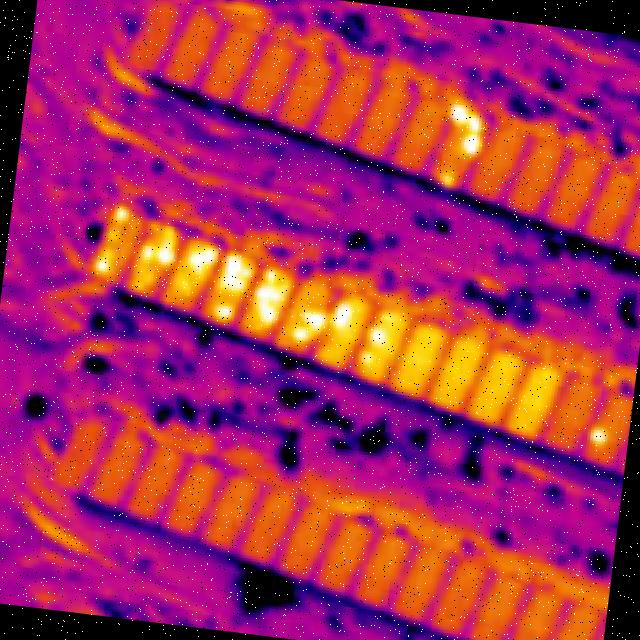Hotspot: (248, 267, 294, 328), (214, 251, 256, 295), (184, 239, 222, 277), (326, 296, 362, 336), (153, 224, 179, 268), (295, 308, 333, 338), (582, 420, 612, 456), (441, 96, 471, 130), (460, 130, 490, 158), (366, 326, 394, 350), (107, 200, 133, 225), (212, 301, 240, 324), (438, 165, 461, 192), (465, 108, 487, 134), (92, 255, 115, 278), (358, 347, 380, 368), (288, 323, 312, 342), (136, 242, 156, 262)
